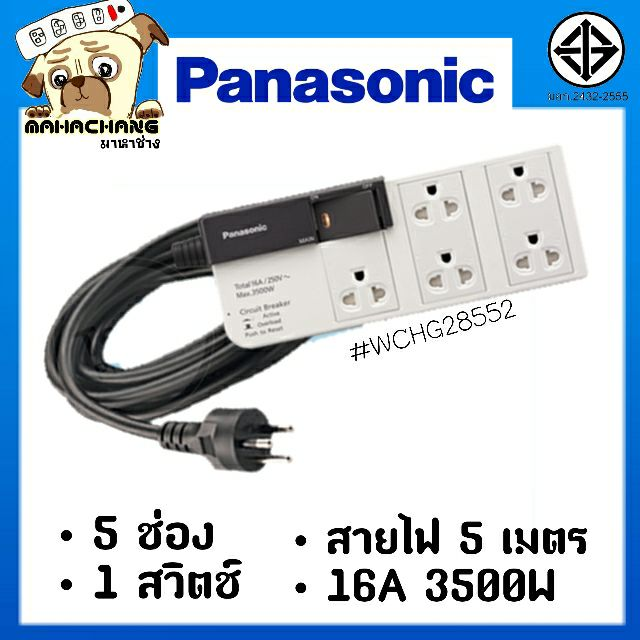Three_eye_plug: (190, 138, 601, 356)
